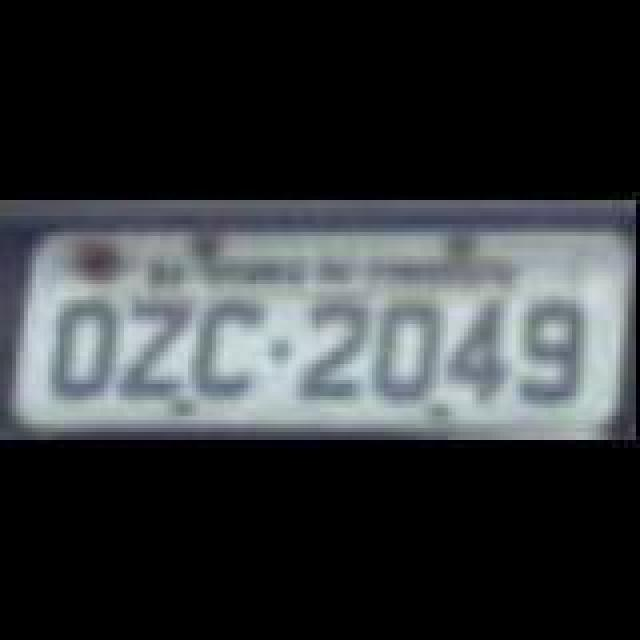2: (300, 296, 372, 400)
4: (444, 296, 516, 400)
9: (518, 296, 586, 400)
C: (188, 300, 260, 396)
O: (374, 302, 442, 402), (56, 296, 120, 400)
Z: (120, 296, 192, 400)
